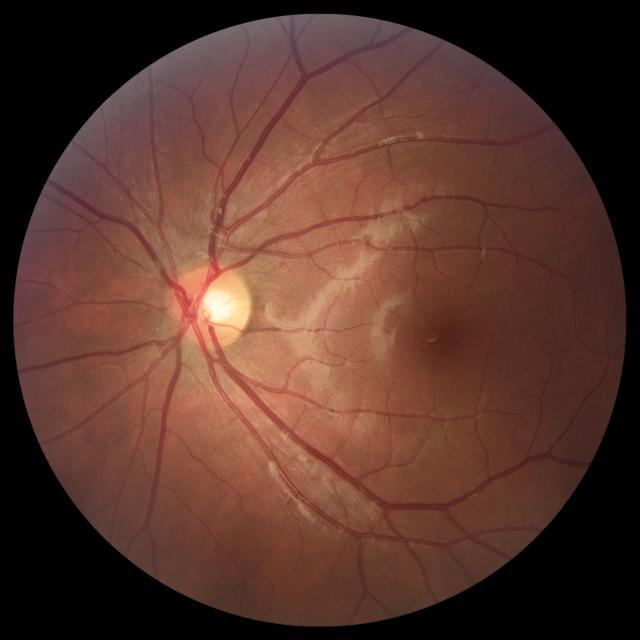OC: (195, 288, 232, 324)
OD: (166, 260, 252, 348)
